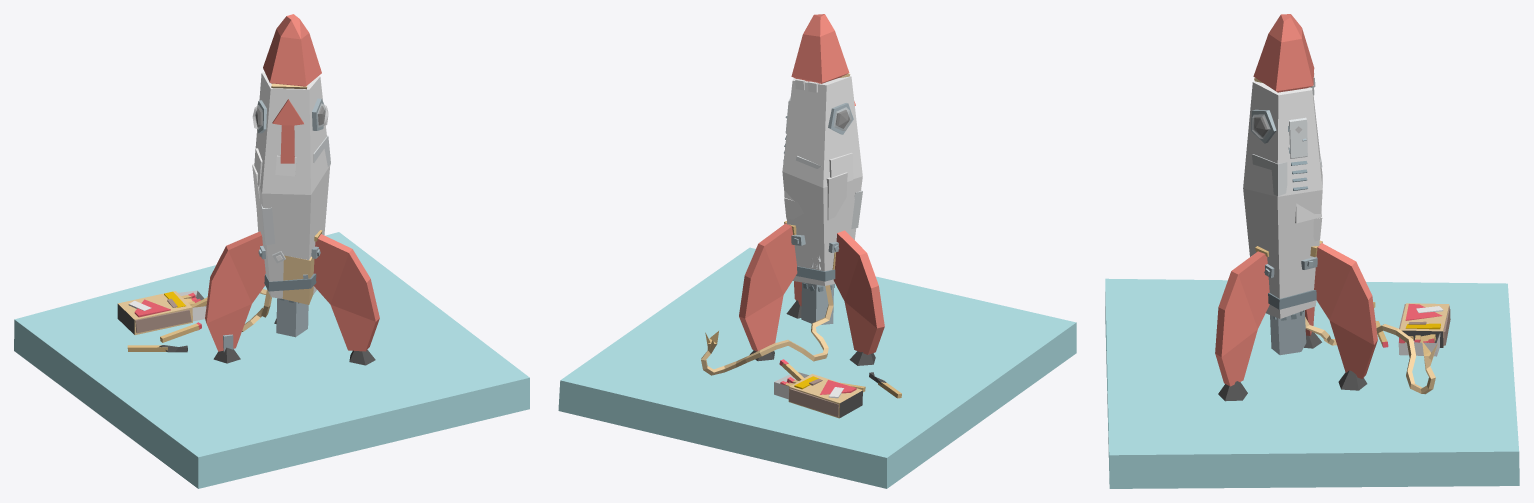
File: rocket.glb
3 views of the same model, side by side, from view 1: azimuth 30°, elevation 25°; view 2: azimuth 150°, elevation 25°; view 3: azimuth 270°, elevation 25° (orthographic). The views are drawn at different scales.
Visible parts, largest first — view 1: mesh_592666355_material_3___23907_0, mesh_1823614401_material_21___23907_0, mesh_348370959_material_8___23907_0, mesh_582586018_material_8___23907_0, mesh_1737653074_material_8___23907_0, mesh_485851533_material_16___23907_0, mesh_1015692500_material_18___23907_0, mesh_1886745388_material_8___23907_0, mesh_851082549_material_18___23907_0, mesh_1994141615_material_20___23907_0, mesh_1373126144_material_17___23907_0; view 2: mesh_592666355_material_3___23907_0, mesh_1823614401_material_21___23907_0, mesh_845660779_material_8___23907_0, mesh_582586018_material_8___23907_0, mesh_1737653074_material_8___23907_0, mesh_485851533_material_16___23907_0, mesh_474394602_material_18___23907_0, mesh_851082549_material_18___23907_0, mesh_1263720195_material_21___23907_0, mesh_1994141615_material_20___23907_0; view 3: mesh_592666355_material_3___23907_0, mesh_1823614401_material_21___23907_0, mesh_845660779_material_8___23907_0, mesh_348370959_material_8___23907_0, mesh_1737653074_material_8___23907_0, mesh_485851533_material_16___23907_0, mesh_474394602_material_18___23907_0, mesh_524388391_material_15___23907_0, mesh_1183308568_material_15___23907_0, mesh_851082549_material_18___23907_0, mesh_1373126144_material_17___23907_0, mesh_1679226975_material_16___23907_0.
Boxes of the visible parts, left/top/right/bottom form: mesh_592666355_material_3___23907_0: left=14, top=232, right=529, bottom=488; mesh_1823614401_material_21___23907_0: left=254, top=72, right=330, bottom=298; mesh_348370959_material_8___23907_0: left=313, top=234, right=379, bottom=351; mesh_582586018_material_8___23907_0: left=205, top=231, right=265, bottom=351; mesh_1737653074_material_8___23907_0: left=263, top=14, right=321, bottom=86; mesh_485851533_material_16___23907_0: left=276, top=298, right=308, bottom=337; mesh_1015692500_material_18___23907_0: left=282, top=255, right=314, bottom=304; mesh_1886745388_material_8___23907_0: left=272, top=99, right=303, bottom=163; mesh_851082549_material_18___23907_0: left=118, top=291, right=192, bottom=334; mesh_1994141615_material_20___23907_0: left=135, top=309, right=191, bottom=333; mesh_1373126144_material_17___23907_0: left=264, top=273, right=316, bottom=291; mesh_592666355_material_3___23907_0: left=558, top=247, right=1076, bottom=488; mesh_1823614401_material_21___23907_0: left=782, top=75, right=862, bottom=285; mesh_845660779_material_8___23907_0: left=739, top=223, right=797, bottom=351; mesh_582586018_material_8___23907_0: left=833, top=230, right=884, bottom=354; mesh_1737653074_material_8___23907_0: left=791, top=14, right=849, bottom=83; mesh_485851533_material_16___23907_0: left=801, top=282, right=833, bottom=324; mesh_474394602_material_18___23907_0: left=701, top=339, right=826, bottom=375; mesh_851082549_material_18___23907_0: left=788, top=374, right=862, bottom=418; mesh_1263720195_material_21___23907_0: left=826, top=172, right=847, bottom=220; mesh_1994141615_material_20___23907_0: left=789, top=388, right=838, bottom=416; mesh_592666355_material_3___23907_0: left=1105, top=278, right=1519, bottom=488; mesh_1823614401_material_21___23907_0: left=1243, top=81, right=1322, bottom=318; mesh_845660779_material_8___23907_0: left=1314, top=243, right=1377, bottom=378; mesh_348370959_material_8___23907_0: left=1215, top=251, right=1269, bottom=386; mesh_1737653074_material_8___23907_0: left=1253, top=14, right=1314, bottom=92; mesh_485851533_material_16___23907_0: left=1270, top=310, right=1306, bottom=355; mesh_474394602_material_18___23907_0: left=1376, top=324, right=1435, bottom=394; mesh_524388391_material_15___23907_0: left=1252, top=154, right=1287, bottom=196; mesh_1183308568_material_15___23907_0: left=1289, top=117, right=1307, bottom=158; mesh_851082549_material_18___23907_0: left=1400, top=303, right=1449, bottom=347; mesh_1373126144_material_17___23907_0: left=1268, top=290, right=1316, bottom=309; mesh_1679226975_material_16___23907_0: left=1251, top=109, right=1276, bottom=143.
Size of the model in its own units: 0.8252 by 0.8655 by 0.8268.
